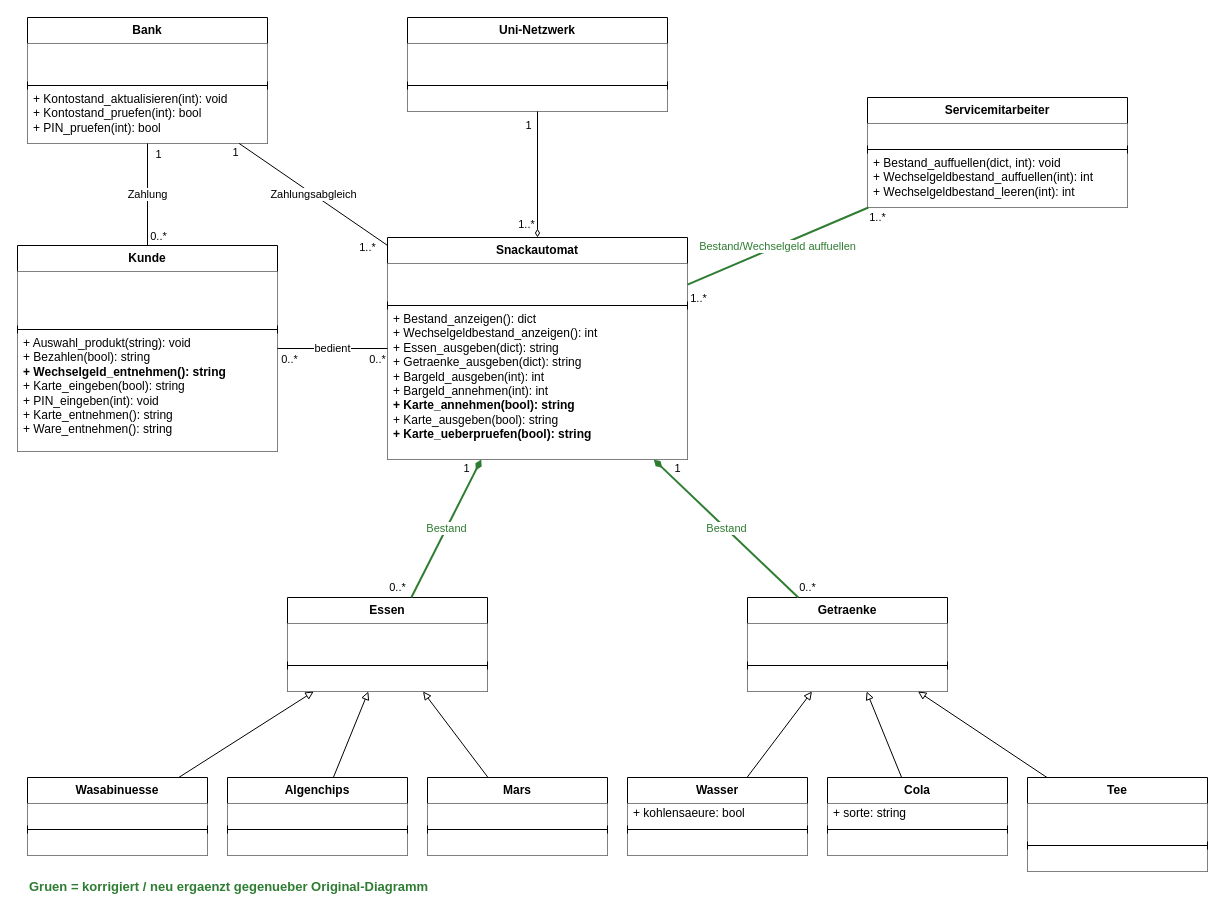
Some shapes in this 1225 by 919 pixel diagram are drawn without their labels. The shapes that lost their labels are listed below. From the top down, each one's centre as x and y in pixels, then its label:
the point at 147,62: + kontostand_kunde: int + karte_gueltigkeit: bool
the point at 537,62: + bestand: dict + anzahl_snackautomaten: int
the point at 537,100: + Servicecall(bool): void
the point at 997,134: + name: string
the point at 147,298: + kontostand: int + bargeld: int + nutzt_karte: bool
the point at 537,282: + bestand: dict + wechselgeldbestand: int
the point at 387,642: + verpackung: string + menge_gramm: int
the point at 847,642: + verpackung: string + menge_liter: int
the point at 1117,822: + sorte: string + kalt: bool
